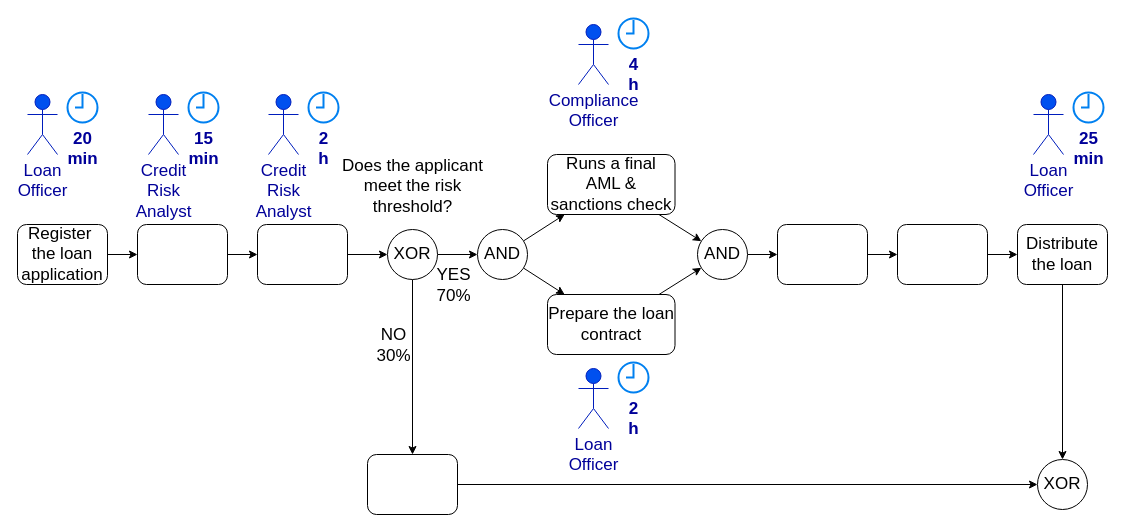
Image size: 1125x532. Some labels were removed from this diagram. The shapes that lost their labels are listed below. From the top down, each one's box as (x1, y1, x2, y2) in pixels, then its label:
(136, 224, 228, 284): get credit report
(256, 224, 348, 284): assess the risk
(776, 224, 868, 284): Send the contract for e-signature
(896, 224, 988, 284): Receive Signed contract
(366, 454, 458, 514): Send a rejection notice
